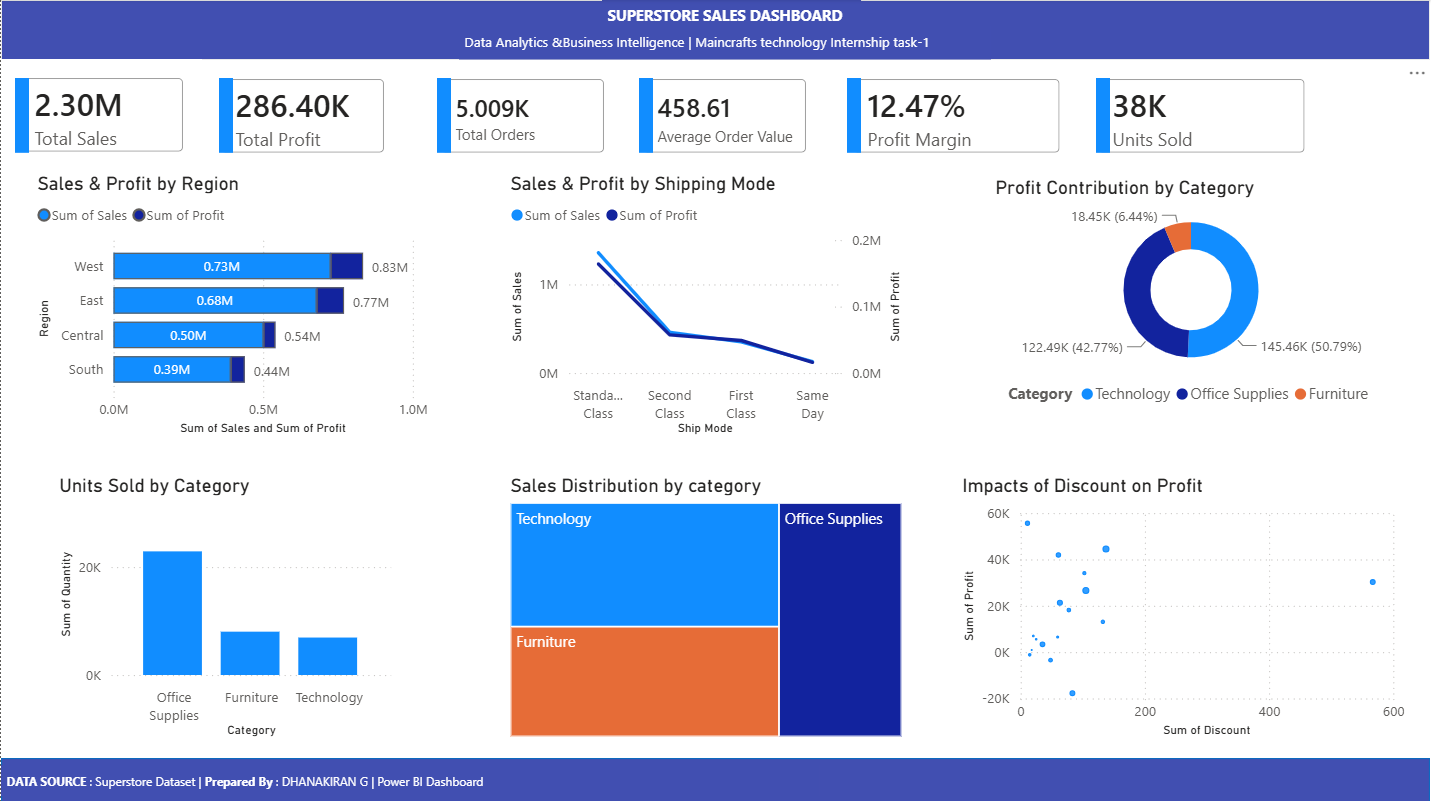

This screenshot's page, from the dashboard's own definition file:
{"tool":"powerbi","page":{"name":"dashboard","canvas":[1280,720],"ordinal":0},"visuals":[{"type":"shape","box":[0,0.9,1279.7,53.7],"z":0},{"type":"textbox","box":[538.2,0.9,231.9,43],"z":1},{"type":"textbox","box":[410.1,24.2,475.5,30.4],"z":2},{"type":"cardVisual","fields":{"Data":["Sum(Cleaned Data.Sales)"]},"box":[0,53.7,180,100.3],"z":3},{"type":"shape","box":[12.5,70.7,12.5,67.2],"z":4},{"type":"cardVisual","fields":{"Data":["Sum(Cleaned Data.Profit)"]},"box":[180,54.6,180,100.3],"z":5},{"type":"shape","box":[195.2,70.7,12.5,67.2],"z":6},{"type":"cardVisual","fields":{"Data":["Count(Cleaned Data.Order ID)"]},"box":[377,54.6,180,100.3],"z":7},{"type":"shape","box":[390.4,70.7,12.5,67.2],"z":8},{"type":"cardVisual","fields":{"Data":["Cleaned Data.Average Order Value"]},"box":[557.9,54.6,180,100.3],"z":9},{"type":"shape","box":[571.3,70.7,12.5,67.2],"z":10},{"type":"cardVisual","fields":{"Data":["Cleaned Data.Profit Margin"]},"box":[746,54.6,219.4,100.3],"z":11},{"type":"shape","box":[757.6,70.7,12.5,67.2],"z":12},{"type":"cardVisual","fields":{"Data":["Sum(Cleaned Data.Quantity)"]},"box":[965.4,54.6,219.4,100.3],"z":13},{"type":"shape","box":[980.6,70.7,12.5,67.2],"z":14},{"type":"barChart","title":"Sales & Profit by Region","fields":{"Category":["Cleaned Data.Region"],"Y":["Sum(Cleaned Data.Sales)","Sum(Cleaned Data.Profit)"]},"box":[27.8,154.9,360,240],"z":15},{"type":"lineChart","title":"Sales & Profit by  Shipping Mode","fields":{"Y":["Sum(Cleaned Data.Sales)"],"Y2":["Sum(Cleaned Data.Profit)"],"Category":["Cleaned Data.Ship Mode"]},"box":[451.3,154.9,360,240],"z":16},{"type":"donutChart","title":"Profit Contribution by Category","fields":{"Category":["Cleaned Data.Category"],"Y":["Sum(Cleaned Data.Profit)"]},"box":[885.7,158.5,360,214],"z":17},{"type":"clusteredColumnChart","title":"Units Sold by Category","fields":{"Category":["Cleaned Data.Category"],"Y":["Sum(Cleaned Data.Quantity)"]},"box":[47.5,425.4,307.2,240],"z":18},{"type":"treemap","title":"Sales Distribution by category","fields":{"Group":["Cleaned Data.Category"],"Values":["Sum(Cleaned Data.Sales)"]},"box":[451.3,425.4,360,240],"z":19},{"type":"scatterChart","title":"Impacts of Discount on Profit","fields":{"X":["Sum(Cleaned Data.Discount)"],"Y":["Sum(Cleaned Data.Profit)"],"Size":["Sum(Cleaned Data.Sales)"],"Category":["Cleaned Data.Sub-Category"]},"box":[856.1,425.4,405.7,240],"z":20},{"type":"shape","box":[0,679.7,1279.7,40.3],"z":21},{"type":"textbox","box":[0,686,732.5,27.8],"z":22}]}

Visuals, with their boxes in screenshot pixels (x1, y1, x2, y2), scaled from the page's 1280x720 canvas onto the 1431x801 screenshot:
shape: bbox(0, 1, 1430, 61)
textbox: bbox(602, 1, 861, 49)
textbox: bbox(458, 27, 990, 61)
cardVisual - Sum(Cleaned Data.Sales): bbox(0, 60, 201, 171)
shape: bbox(14, 79, 28, 153)
cardVisual - Sum(Cleaned Data.Profit): bbox(201, 61, 402, 172)
shape: bbox(218, 79, 232, 153)
cardVisual - Count(Cleaned Data.Order ID): bbox(421, 61, 623, 172)
shape: bbox(436, 79, 450, 153)
cardVisual - Cleaned Data.Average Order Value: bbox(624, 61, 825, 172)
shape: bbox(639, 79, 653, 153)
cardVisual - Cleaned Data.Profit Margin: bbox(834, 61, 1079, 172)
shape: bbox(847, 79, 861, 153)
cardVisual - Sum(Cleaned Data.Quantity): bbox(1079, 61, 1325, 172)
shape: bbox(1096, 79, 1110, 153)
"Sales & Profit by Region" barChart: bbox(31, 172, 434, 439)
"Sales & Profit by  Shipping Mode" lineChart: bbox(505, 172, 907, 439)
"Profit Contribution by Category" donutChart: bbox(990, 176, 1393, 414)
"Units Sold by Category" clusteredColumnChart: bbox(53, 473, 397, 740)
"Sales Distribution by category" treemap: bbox(505, 473, 907, 740)
"Impacts of Discount on Profit" scatterChart: bbox(957, 473, 1411, 740)
shape: bbox(0, 756, 1430, 800)
textbox: bbox(0, 763, 819, 794)
